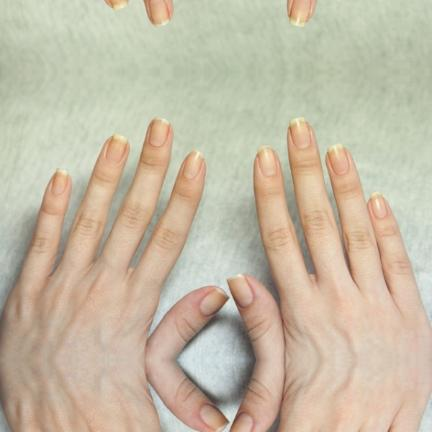Nail: (227, 274, 253, 308), (199, 288, 228, 316), (199, 404, 228, 432), (289, 117, 311, 149), (106, 133, 128, 165), (327, 144, 349, 175), (149, 117, 170, 147), (257, 145, 277, 176), (183, 150, 203, 180), (289, 0, 311, 27), (149, 0, 170, 27), (51, 169, 69, 196), (229, 412, 253, 432), (369, 192, 387, 218), (109, 0, 128, 11)
